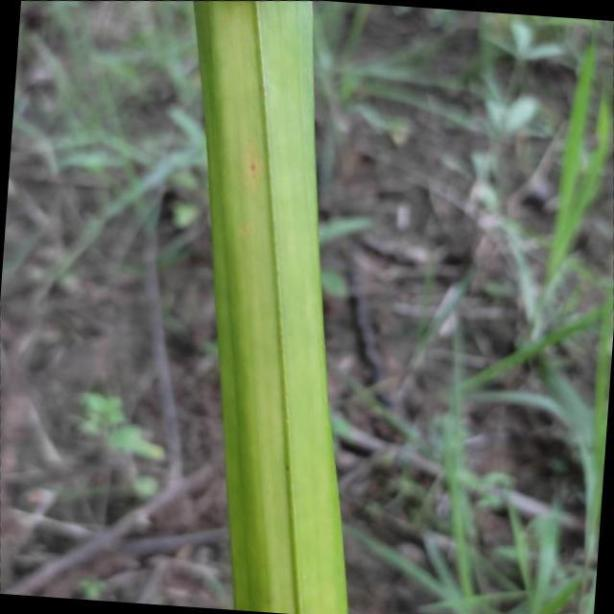nitrogen: (200, 0, 353, 614)
